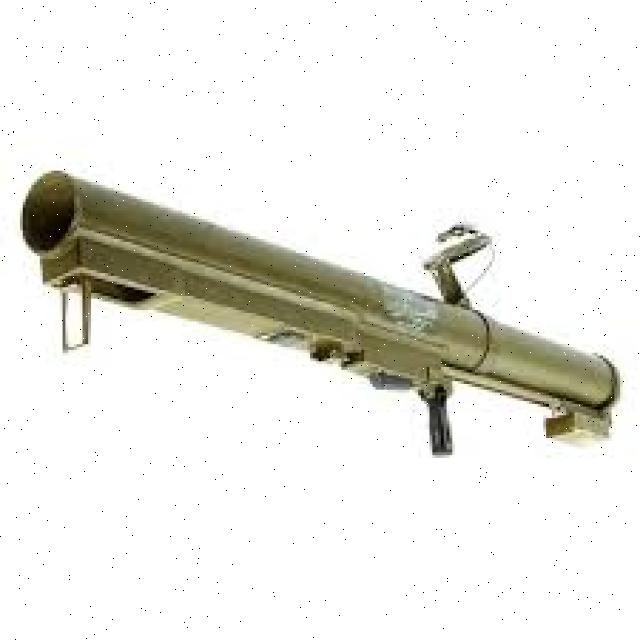bazooka: (9, 162, 629, 466)
